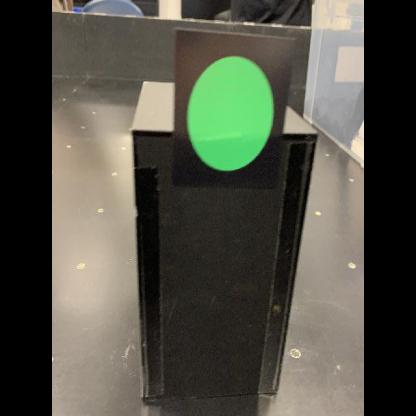go: (171, 25, 298, 192)
